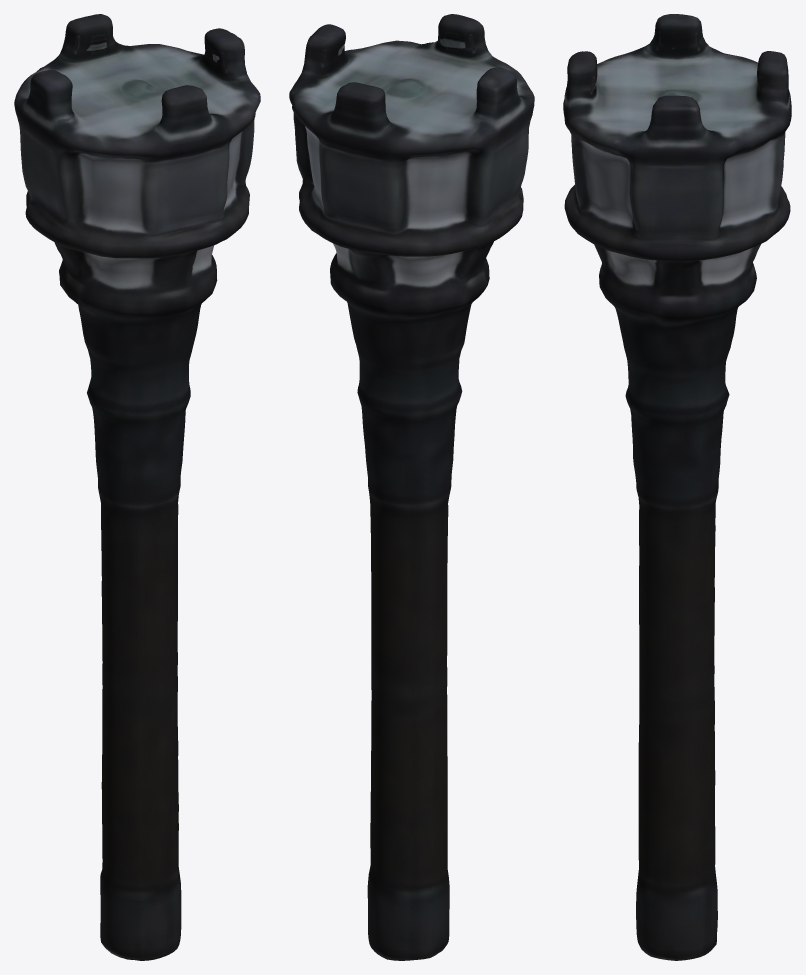
The model's file is torch.fbx.
3 renders of one model, left to right at view 1: azimuth 30°, elevation 25°; view 2: azimuth 150°, elevation 25°; view 3: azimuth 270°, elevation 25°, orthographic.
Visible parts, largest first — view 1: mesh; view 2: mesh; view 3: mesh.
Part boxes in pixels (box(x1,y1,x2,y2)): mesh: box(14, 14, 260, 960); mesh: box(289, 14, 534, 960); mesh: box(563, 14, 791, 960).
Size of the model in its own units: 23.59 by 99.96 by 23.28.
